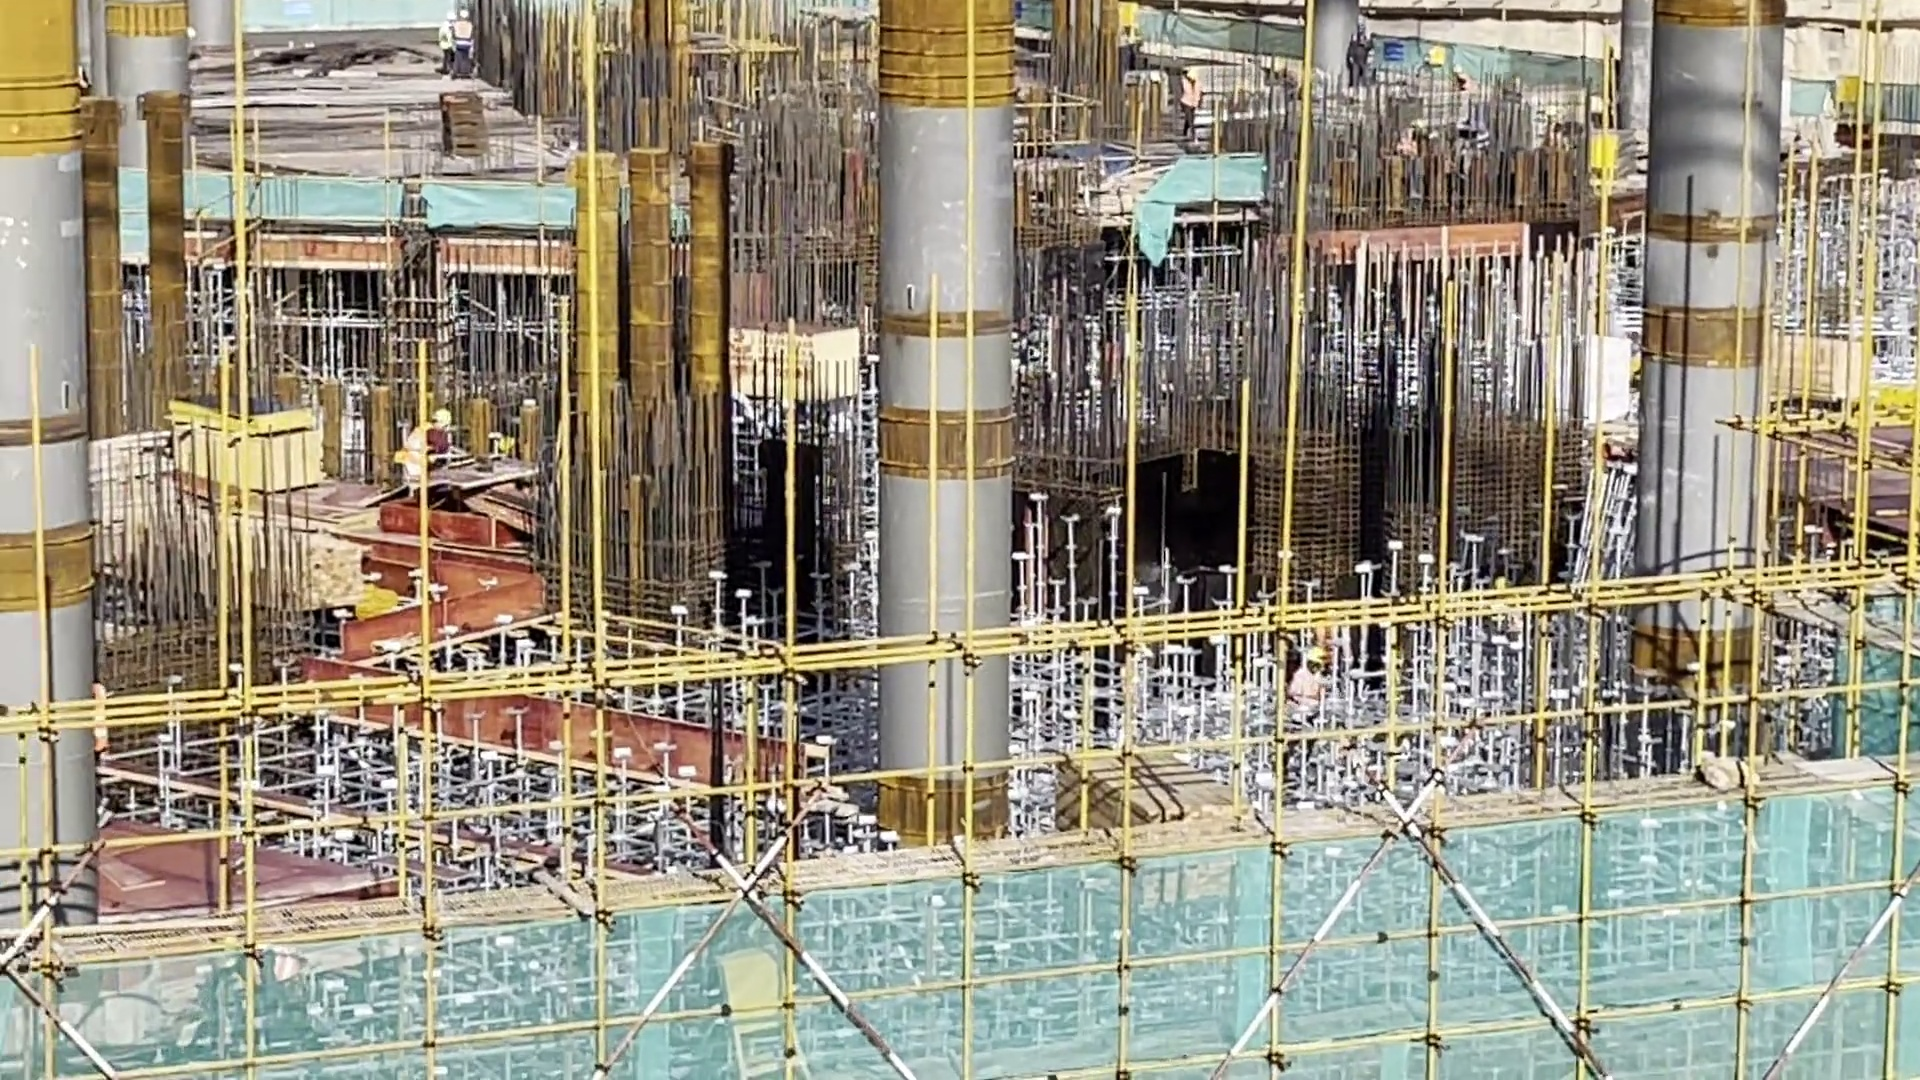ebox: (711, 940, 813, 1080), (1588, 126, 1624, 184), (1832, 71, 1864, 109), (1115, 1, 1141, 29)
helmet: (429, 399, 457, 433), (1303, 639, 1326, 667), (455, 1, 470, 20), (1187, 64, 1202, 81), (443, 7, 455, 21)
person: (400, 399, 462, 491), (1175, 63, 1208, 128), (453, 11, 477, 68), (432, 11, 450, 65)
vest: (399, 428, 438, 478), (1180, 82, 1202, 104), (457, 23, 471, 45), (436, 27, 449, 42)
